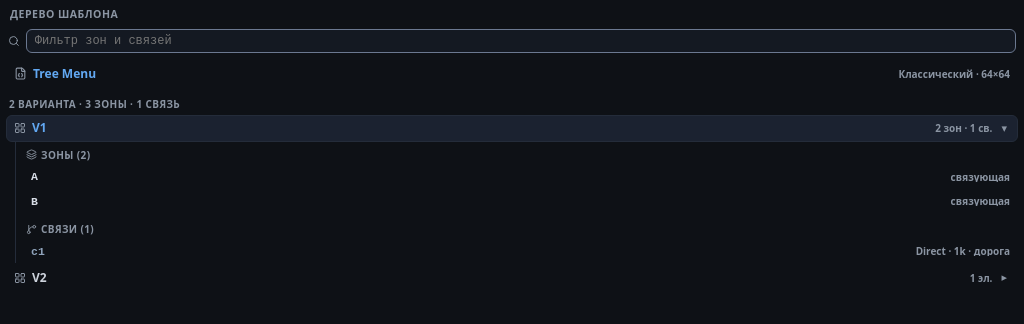
Scenario: TemplateTree: контекстное меню › ПКМ по зоне: пункты «Дублировать зону» / «Удалить зону»; дубль создаёт копию и закрывает меню
Step 1. Right-click the button "A связующая" → {"x": 980, "y": 177}, box [23,165,1018,189]
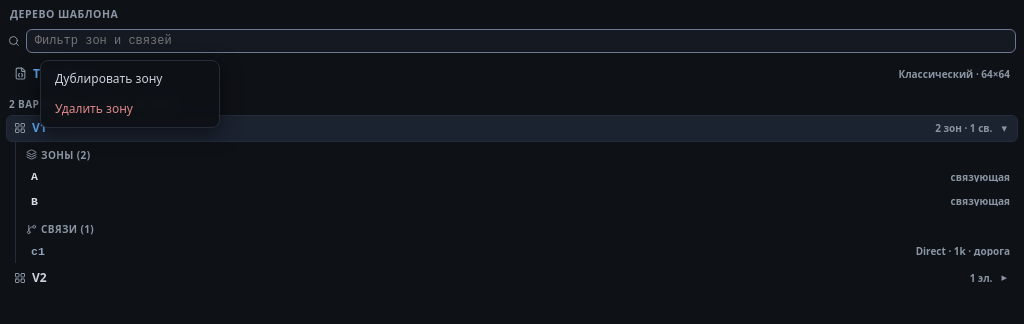
Step 2. Click the menu item "Дублировать зону" → {"x": 130, "y": 79}, box [45,65,215,93]
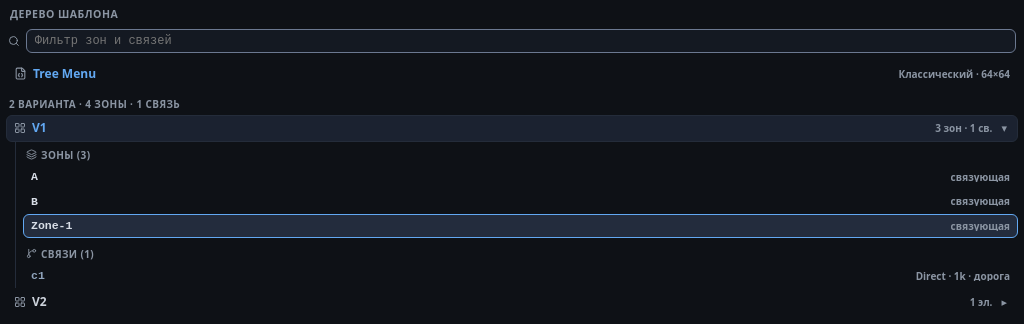
Expected: the menu is gone
